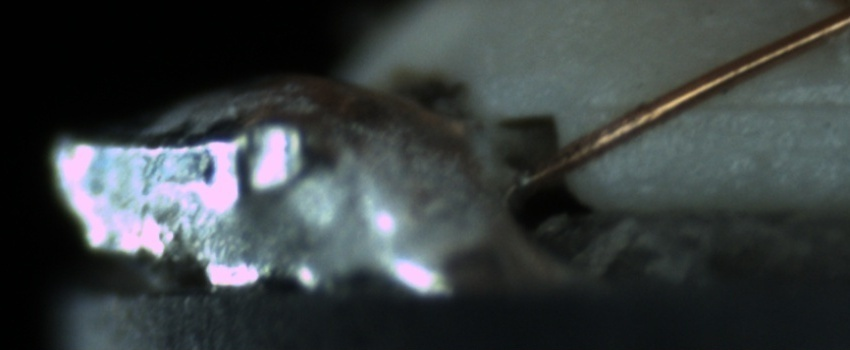DL: (611, 70, 848, 136)
